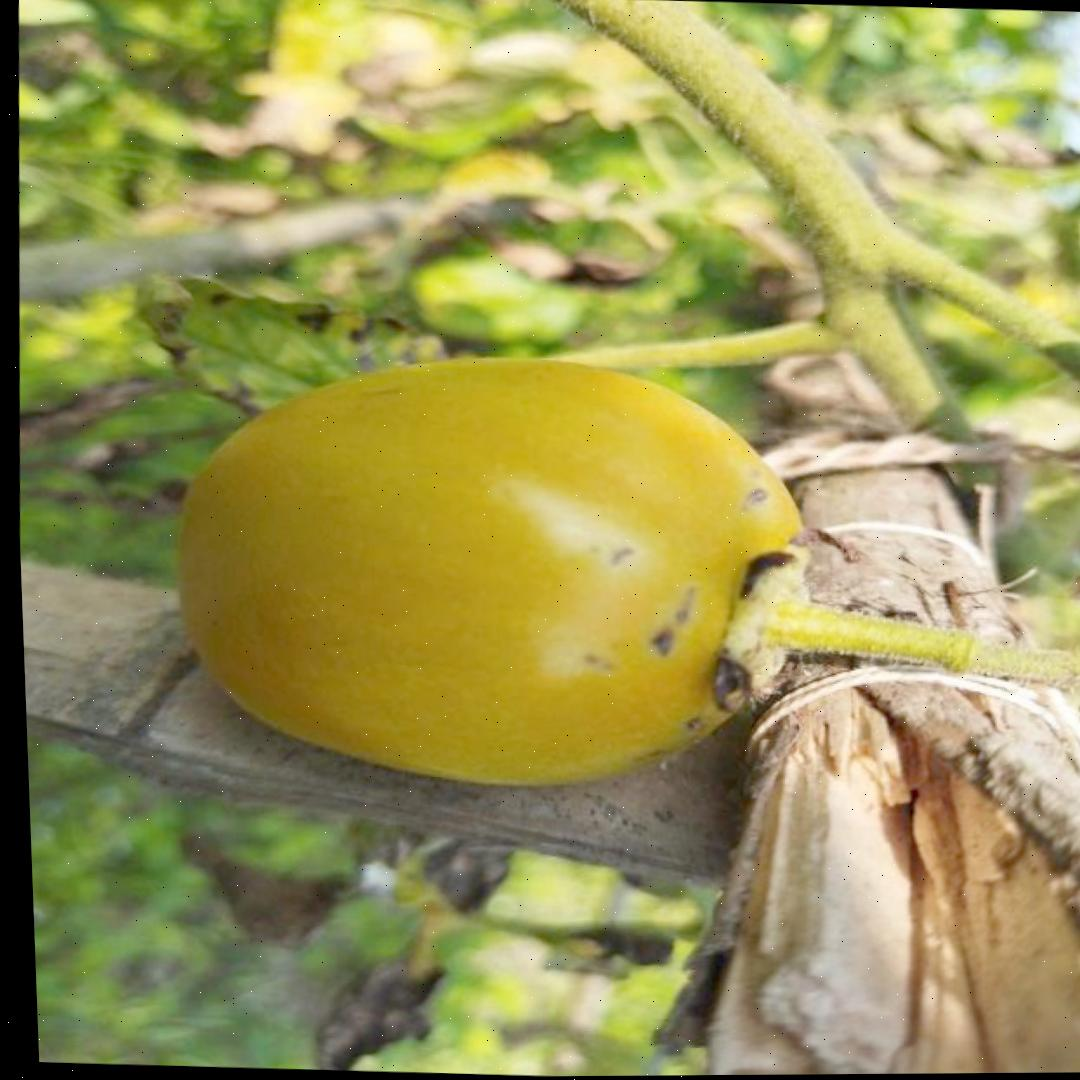setengah_matang: (162, 338, 828, 805)
